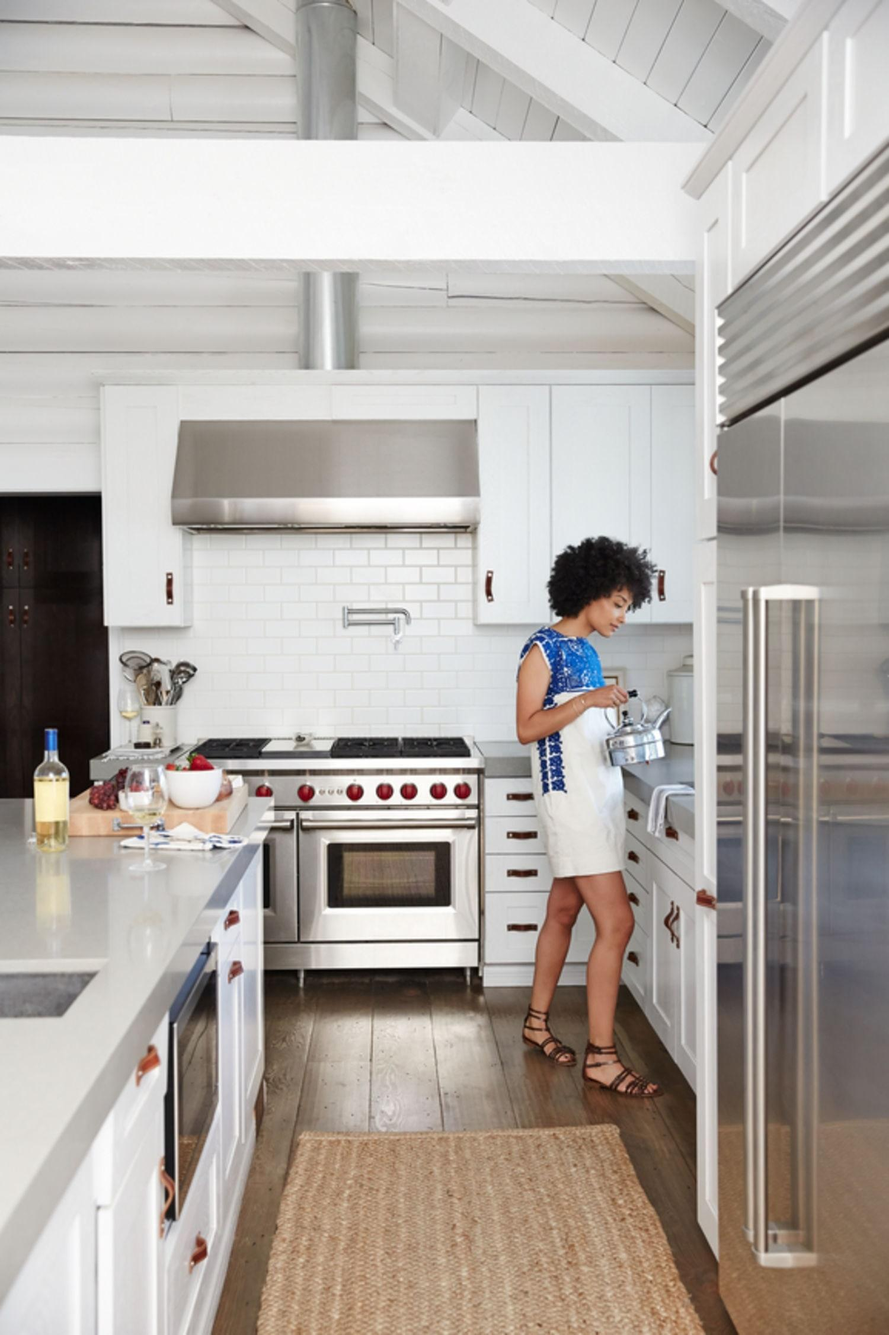FallenBody: (476, 513, 694, 1122)
